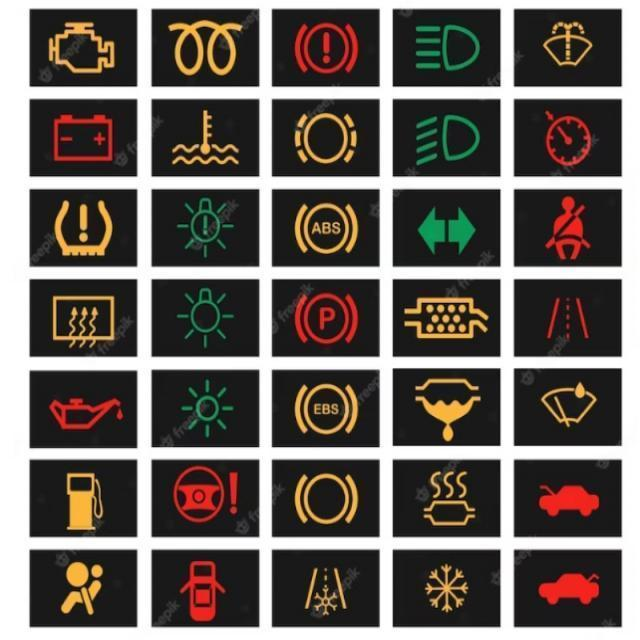Electronic Power Steering: (172, 464, 237, 522)
